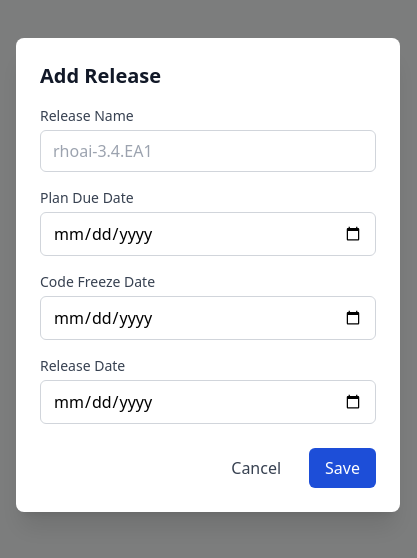
Test: ReleaseModal › rejects version format with trailing dot (e.g., rhoai-3.4.)
In the field with test id "release-name-input": (208, 151) [40,130,376,172], type "rhoai-3.4."
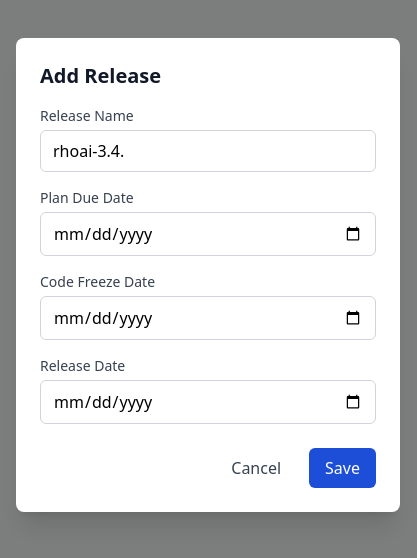
Submit the form, box [40,106,376,488]
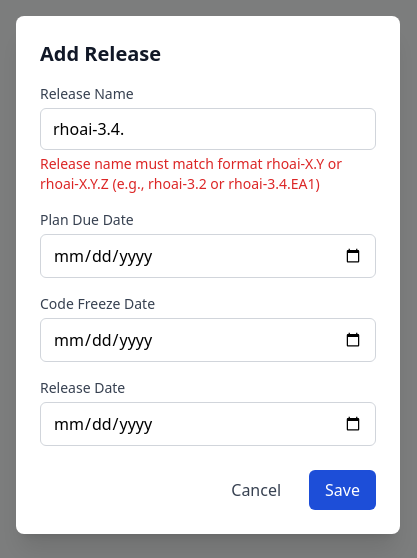
Check: the text with test id "name-error" is shown, box [40,154,376,194]
